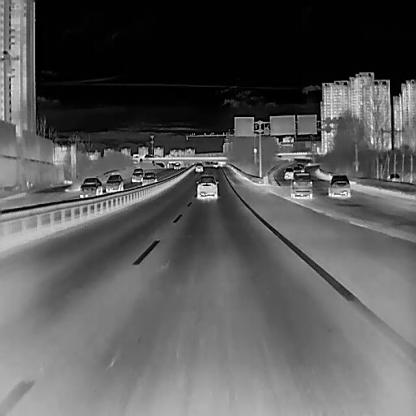car: (290, 172, 313, 198), (328, 174, 351, 196), (196, 175, 218, 198), (80, 177, 102, 195), (106, 174, 124, 191), (142, 172, 157, 186), (284, 167, 294, 179), (131, 172, 143, 182), (386, 172, 400, 180), (293, 165, 304, 173), (195, 162, 203, 172), (173, 162, 180, 169), (133, 168, 143, 172), (212, 162, 218, 166)
